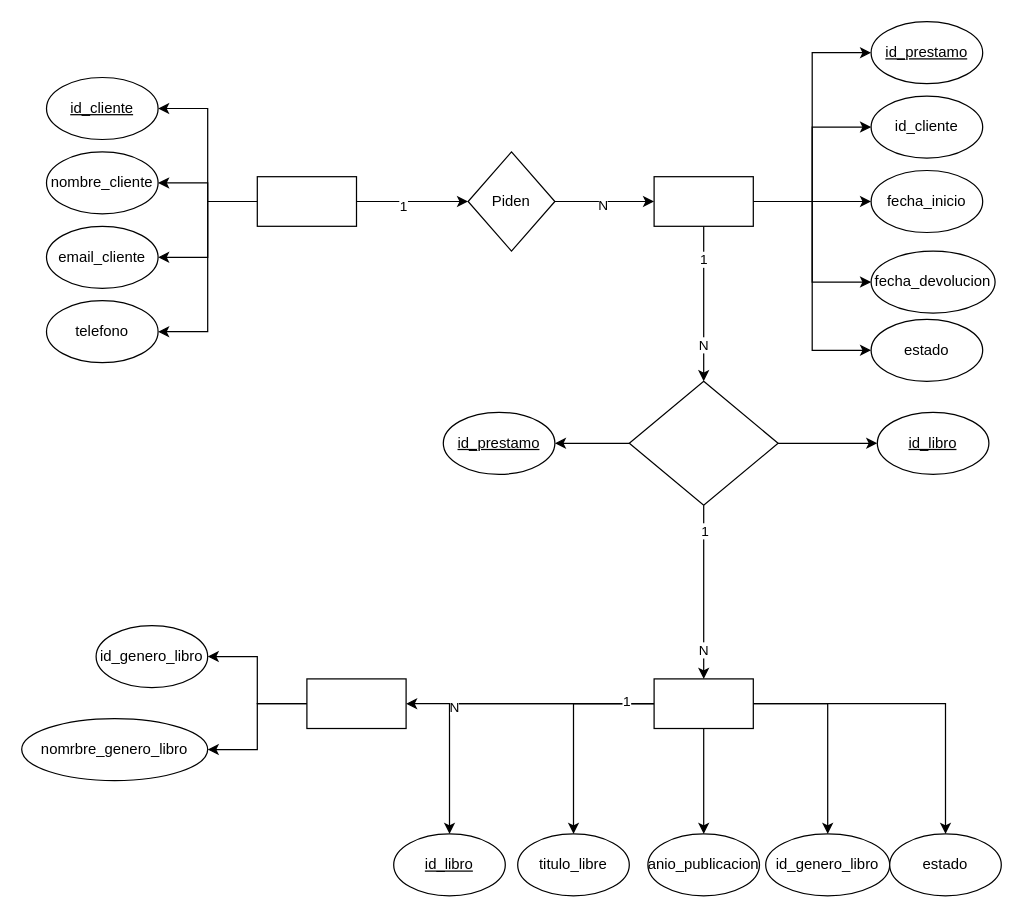
The diagram is 1023 pixels wide and 918 high, and some of its shapes have lost their labels. Here are the shapes that lost their labels. From the top down, the centre of each, then its label:
At (306,200): "clientes".
At (703,200): "prestamos".
At (703,442): "detalles_prestamos".
At (356,703): "generos_libros".
At (703,703): "libros".
